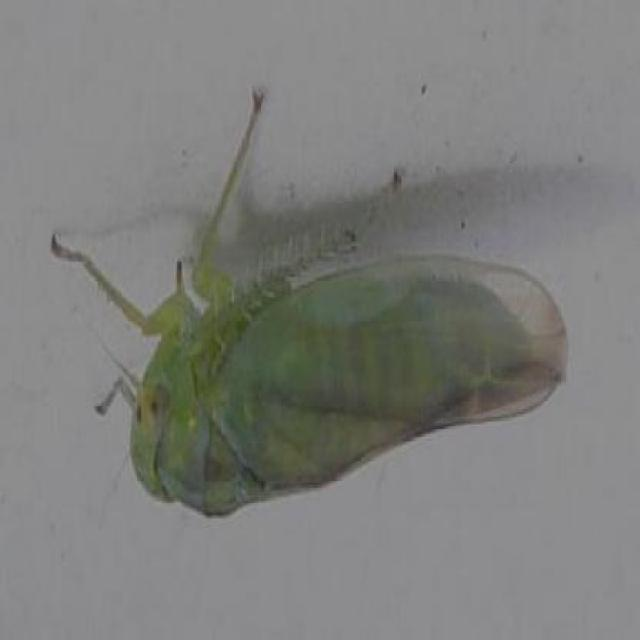green-leafhopper: (127, 226, 575, 537)
